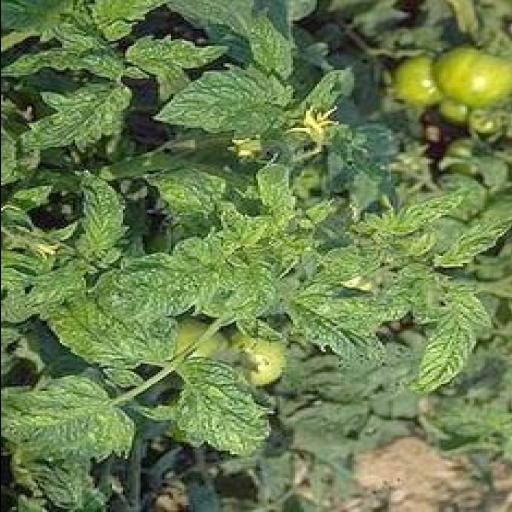Yellow Leaf Curl Virus: (0, 373, 140, 476), (96, 237, 250, 324), (146, 65, 310, 145), (163, 356, 277, 462), (142, 154, 270, 242), (42, 294, 174, 372), (282, 282, 392, 372), (56, 168, 140, 272), (406, 292, 480, 401), (22, 80, 133, 150), (366, 183, 479, 239)
